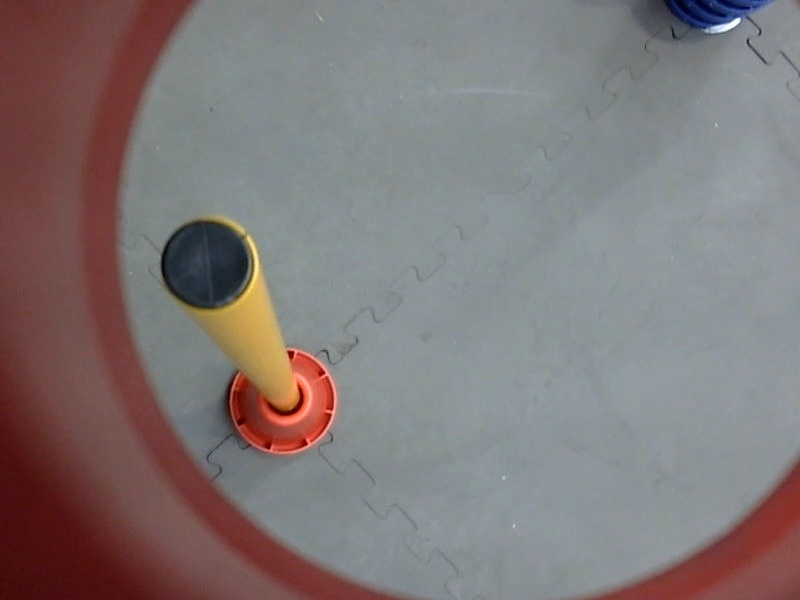tip: (152, 206, 266, 321)
